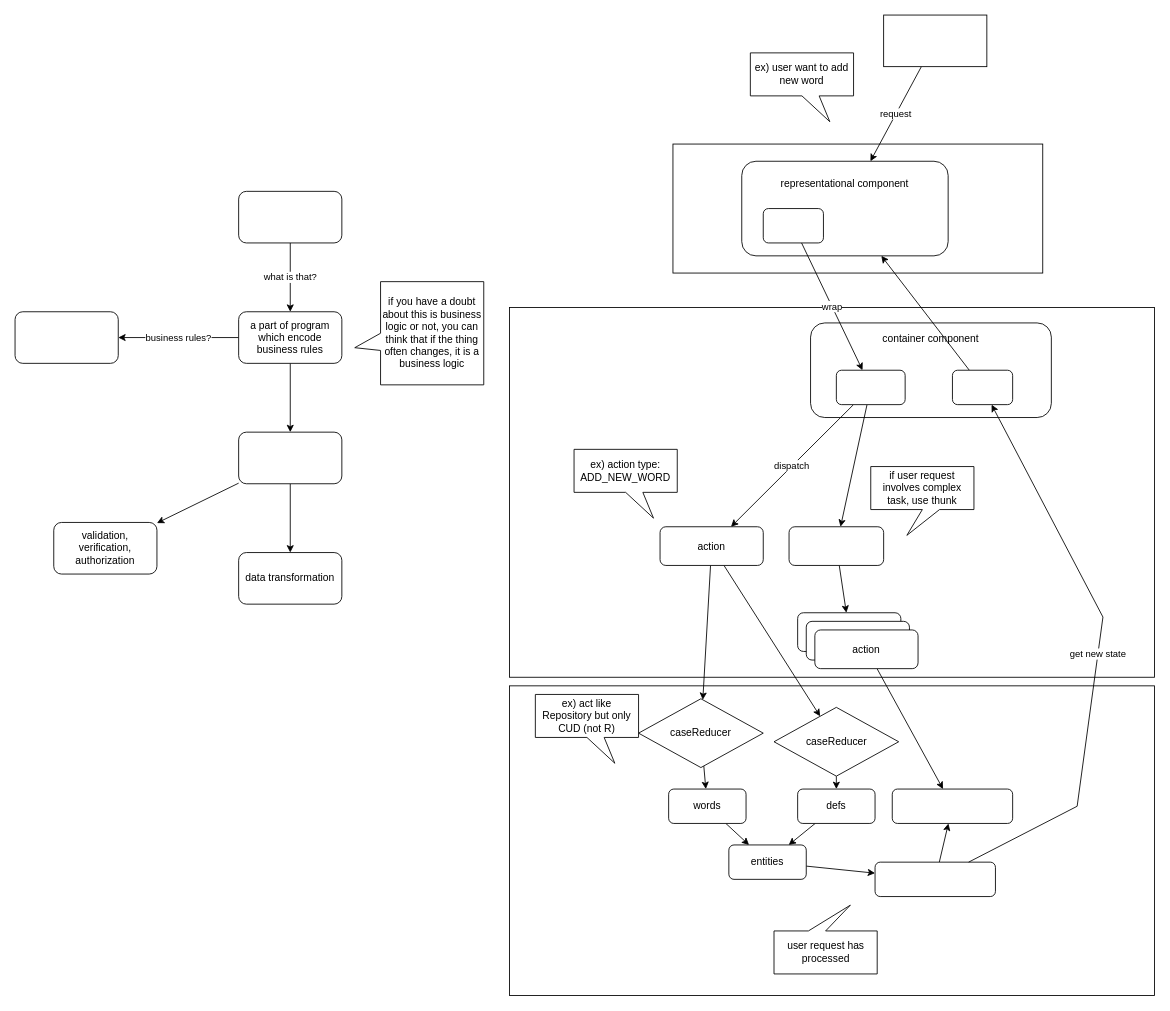
Some shapes in this 1170 by 1011 pixel diagram are drawn without their labels. Here are the shapes that lost their labels. From the top down, the centre of each, then its label:
At point (935, 40): "users".
At point (290, 216): "Business logic".
At point (792, 225): "event handler".
At point (66, 337): "an expression of business rules".
At point (870, 387): "MDTP".
At point (982, 387): "MSTP".
At point (290, 457): "2 types".
At point (836, 545): "thunk".
At point (952, 805): "other state".
At point (934, 879): "state".
